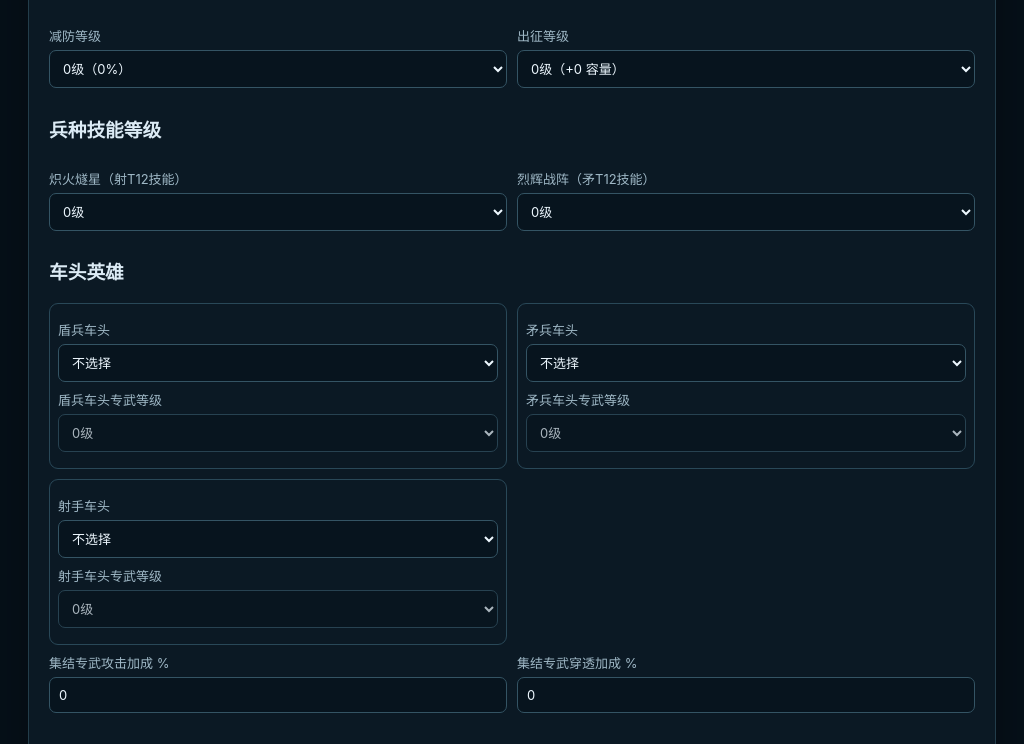
计算器UI有限选项与技能说明 › 英雄选项不显示内部状态或确认数量，已确认的米娅幸运加护直接展示
(page scrolled)
Select "米娅（S3）" in the dropdown labelled "矛兵车头" at (746, 363), box left=526, top=344, right=966, bottom=382
(page scrolled)
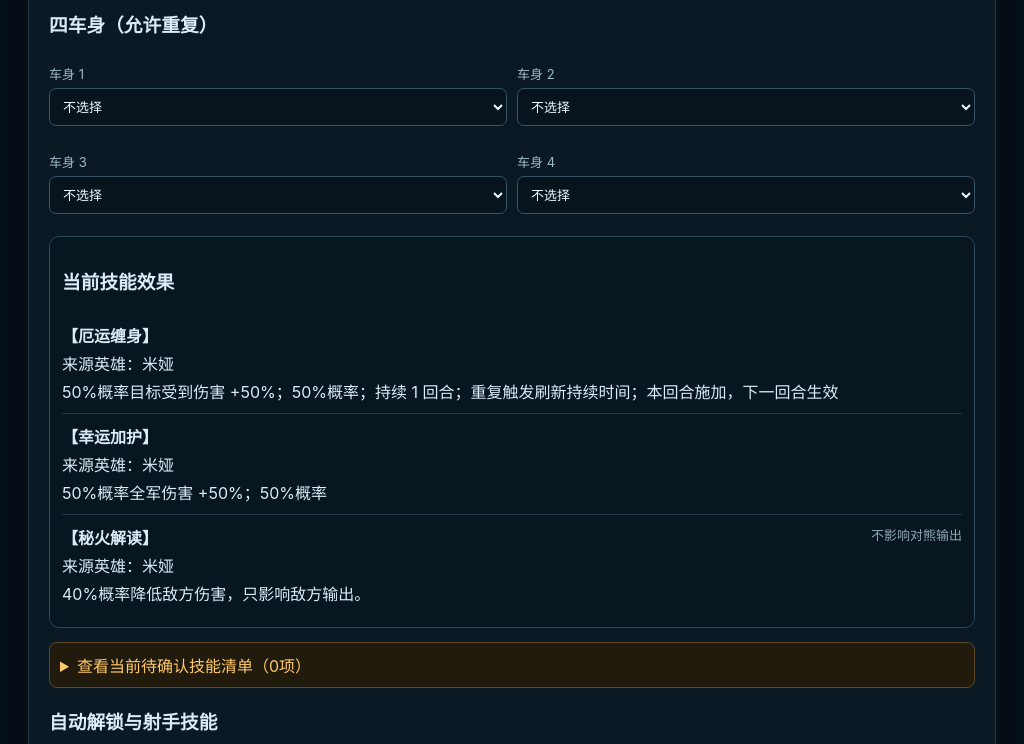
Check: the text "【幸运加护】" is shown, box left=62, top=427, right=158, bottom=447
Check: the text "来源英雄：米娅" below "厄运缠身" is shown, box left=62, top=354, right=174, bottom=374
